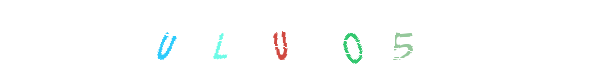0: (312, 0, 392, 80)
5: (346, 0, 426, 80)
L: (240, 0, 320, 80)
U: (145, 0, 225, 80), (262, 0, 342, 80)
